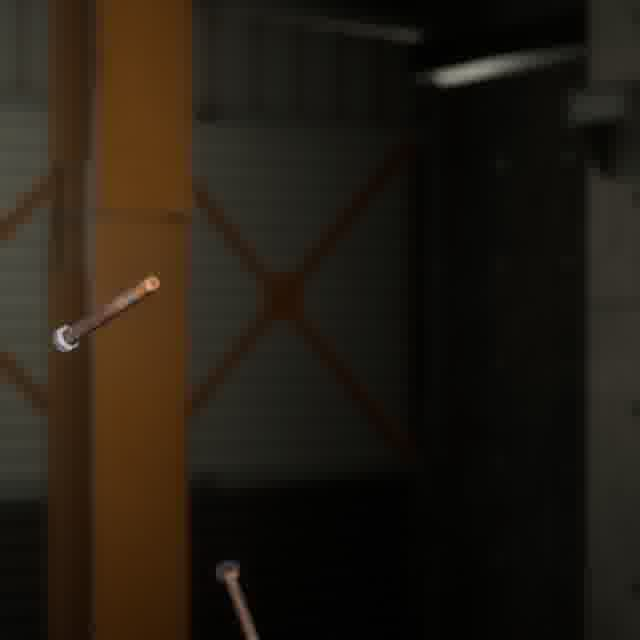bolt: (48, 271, 164, 357), (211, 556, 263, 640)
